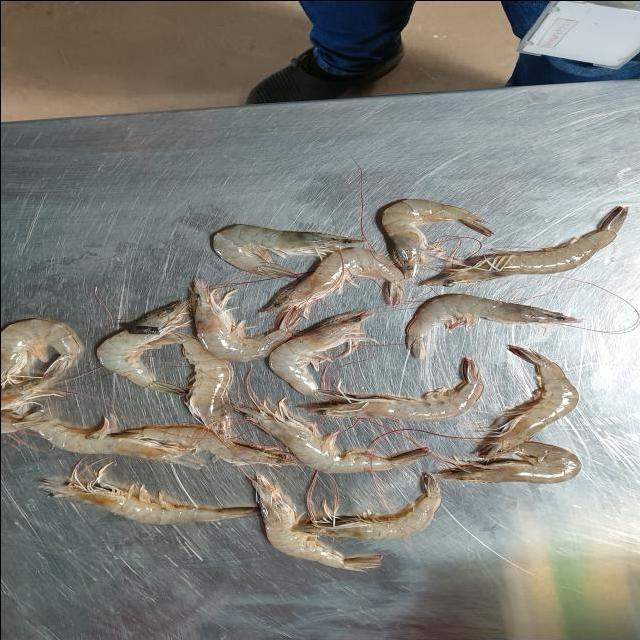shrimp: (419, 206, 627, 286), (233, 400, 430, 474), (38, 465, 259, 525), (253, 474, 381, 571), (474, 345, 578, 459), (299, 358, 483, 422), (405, 294, 580, 360), (290, 474, 441, 540), (264, 248, 403, 316), (268, 311, 374, 399), (191, 279, 299, 361), (27, 419, 202, 469), (95, 301, 188, 394), (381, 199, 492, 276), (213, 225, 363, 278), (109, 425, 295, 466), (169, 331, 233, 438), (434, 441, 580, 484), (0, 319, 82, 386), (0, 370, 64, 434)
